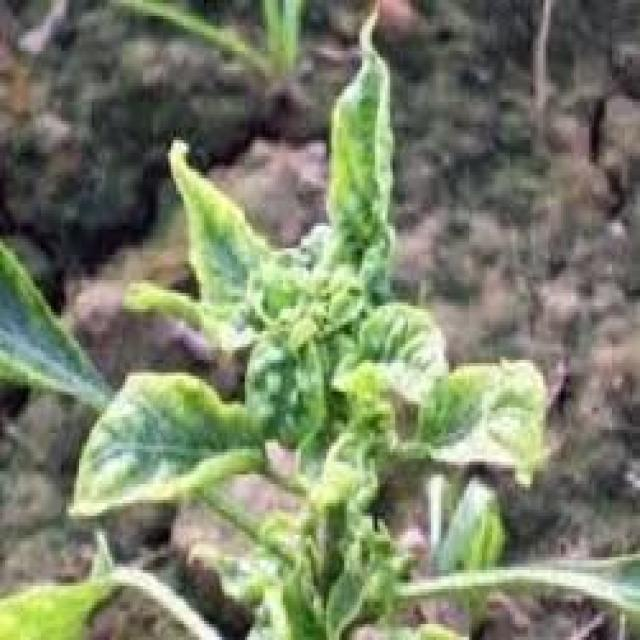Nutirtion_deficie: (324, 320, 528, 498), (149, 120, 306, 351), (106, 362, 247, 528), (326, 78, 421, 240)
